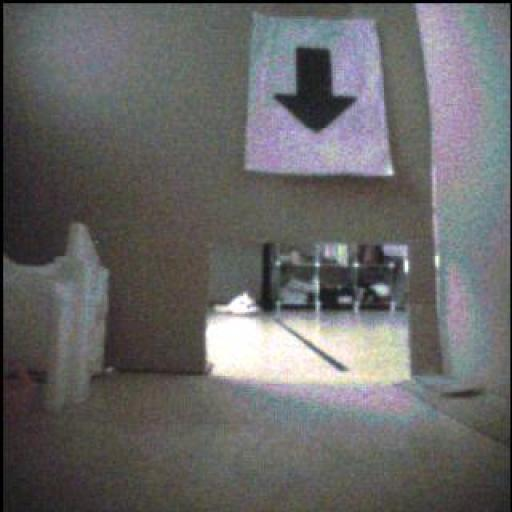arrow: (276, 49, 356, 132)
